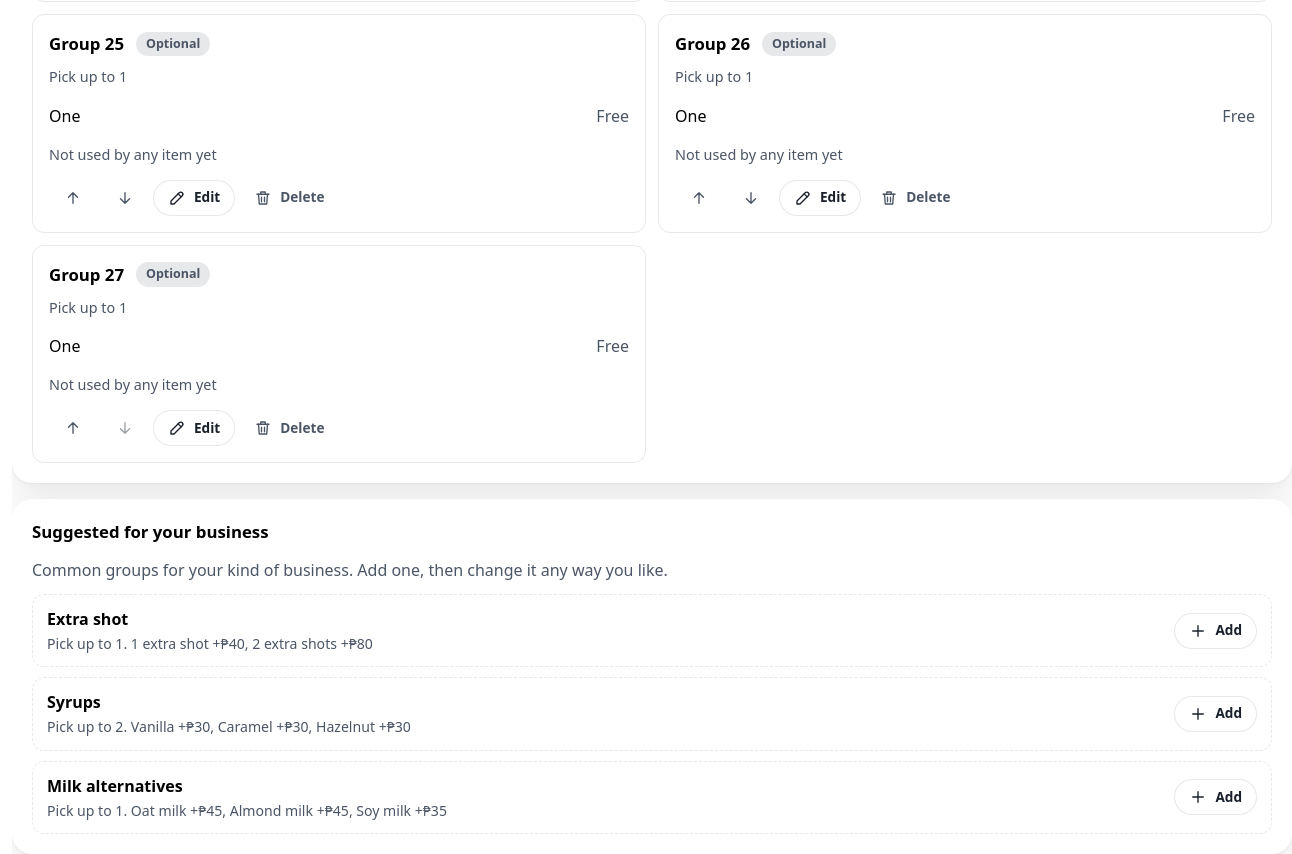
Focus when the list becomes full › puts the focus on the Edit button of the new group when a suggestion fills the list
The image size is (1292, 854).
(page scrolled)
Click the button with aria-label "Add the Extra shot group": (1216, 631) x1=1174 y1=613 x2=1257 y2=649
(page scrolled)
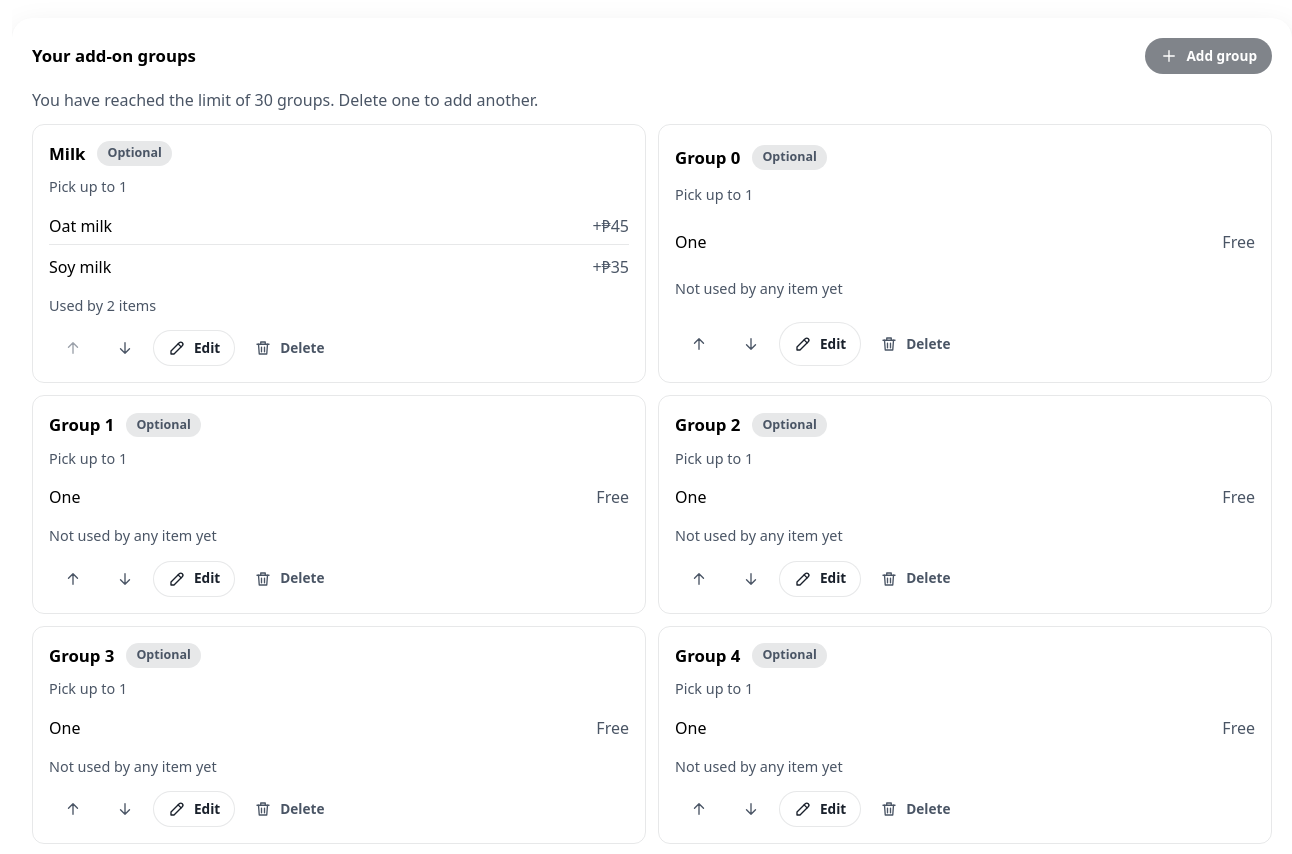
expect the button "Add group" is disabled: met, box x1=1145 y1=38 x2=1272 y2=74
